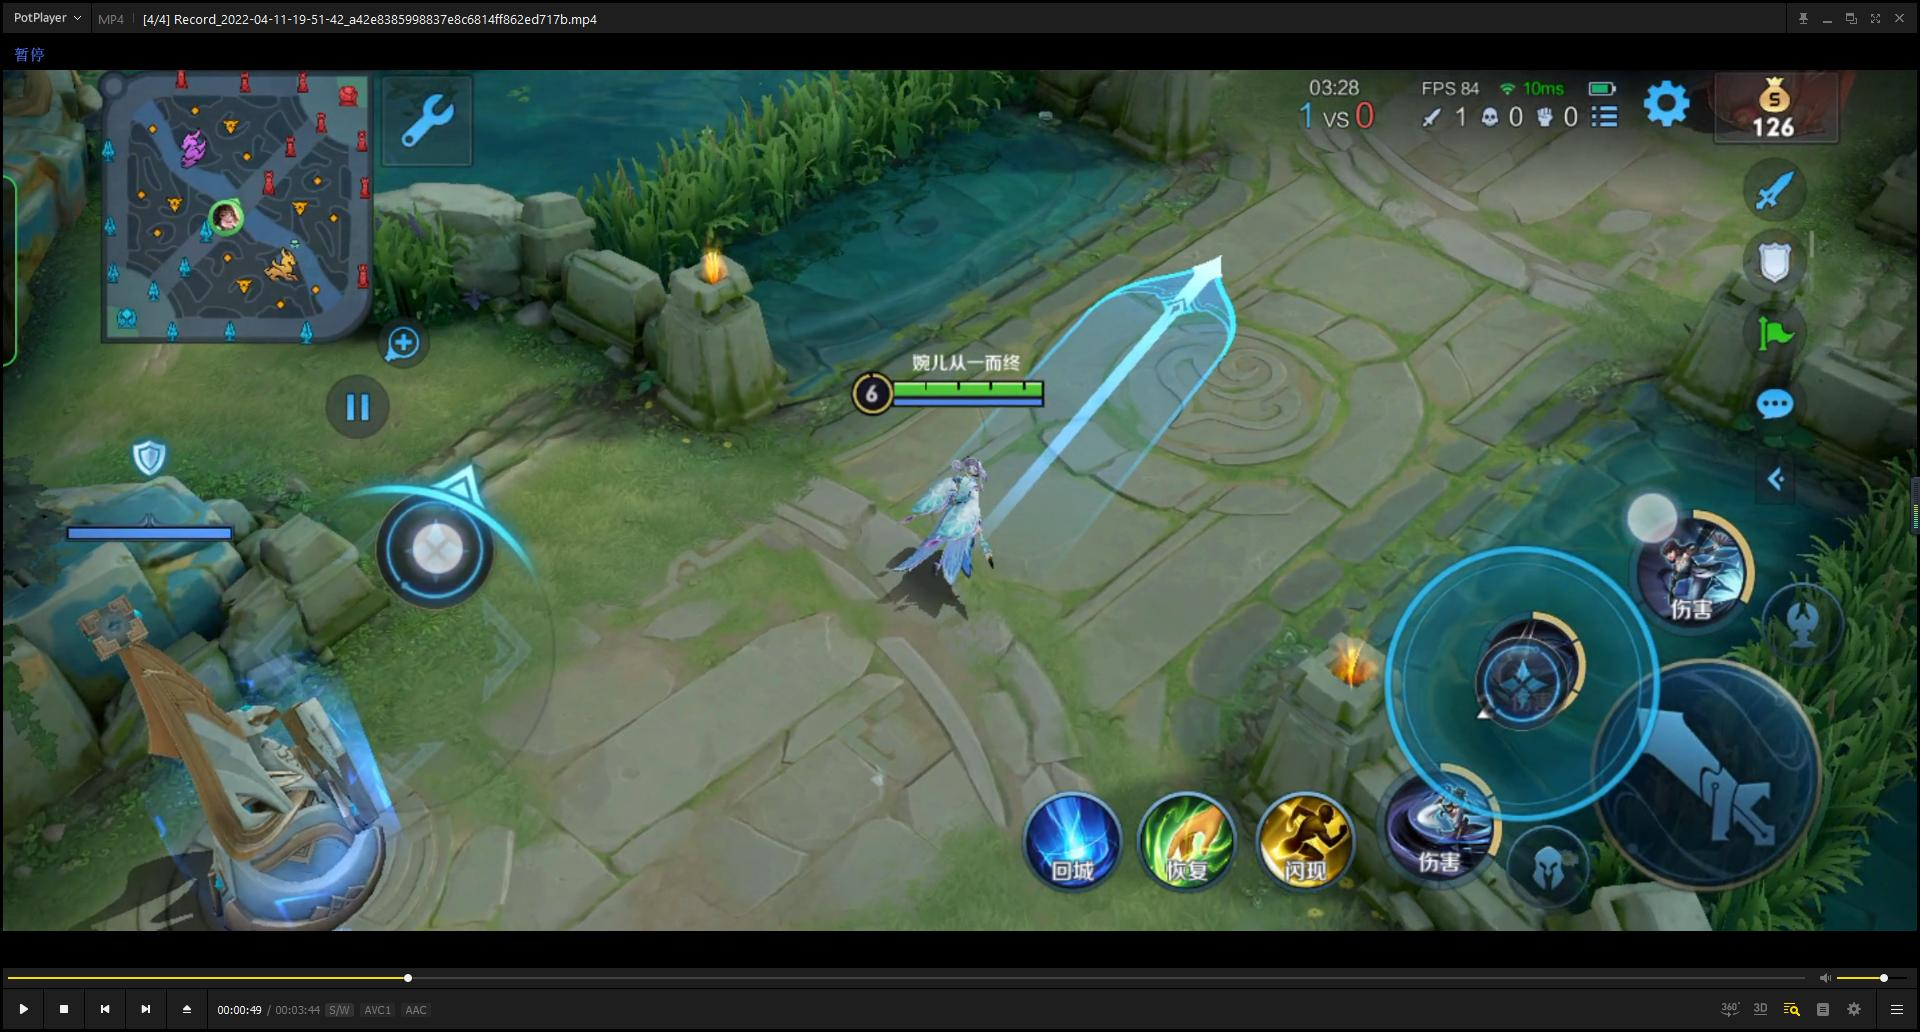Hero: (881, 452, 1006, 618)
Tower: (41, 516, 404, 932), (1694, 72, 1854, 137)
